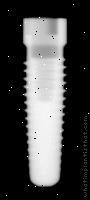Nobel Biocare: (18, 18, 67, 188)
